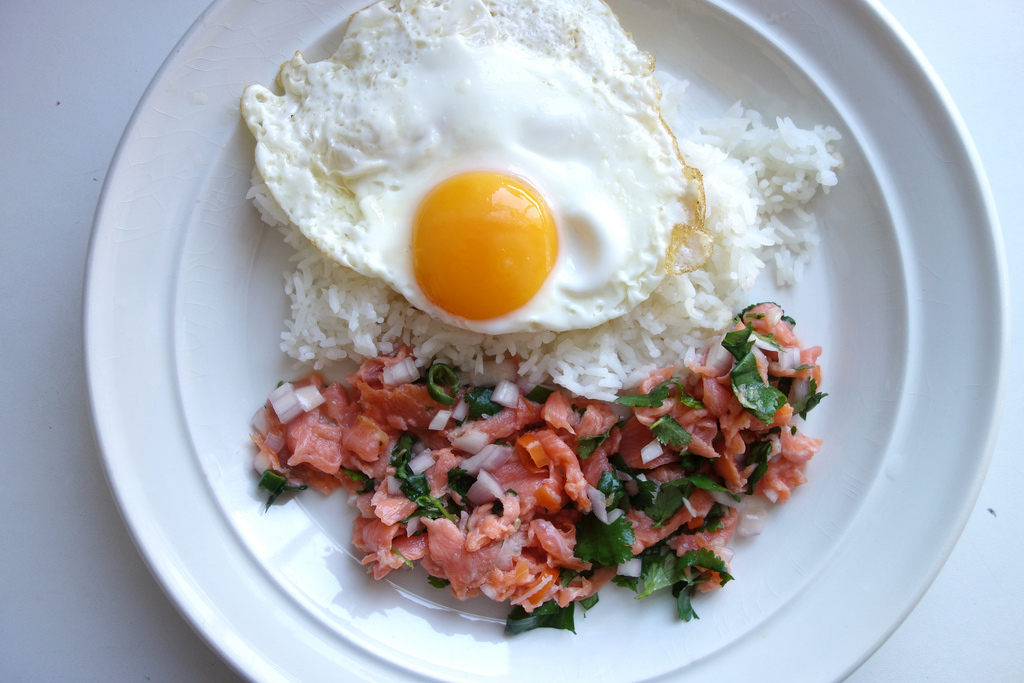fried egg: (273, 24, 679, 321)
plain rice: (620, 311, 699, 355)
